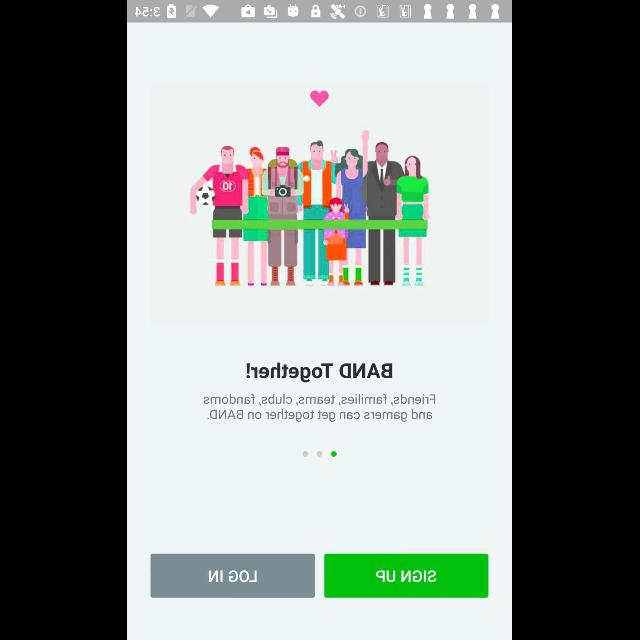image: (190, 90, 430, 286)
pageindicator: (302, 450, 338, 458)
text: (204, 393, 436, 422), (246, 362, 394, 383)
textbutton: (150, 554, 316, 598), (325, 554, 489, 598)
uppertaskbar: (128, 1, 512, 23)
